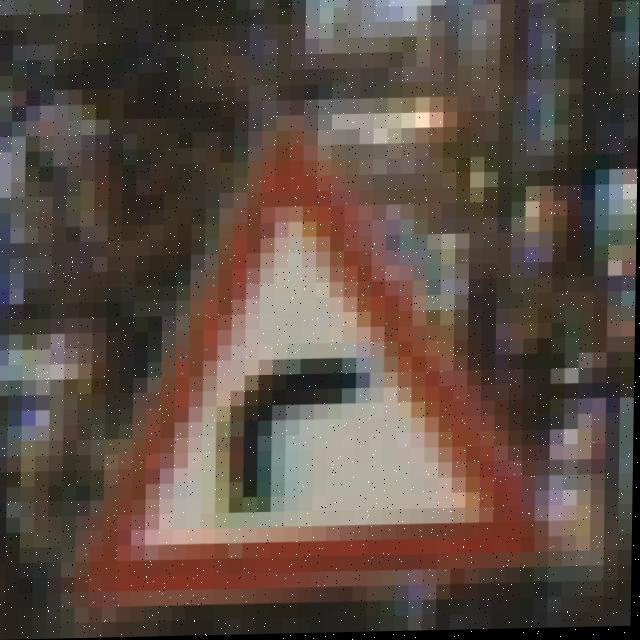right_turn: (127, 195, 578, 599)
